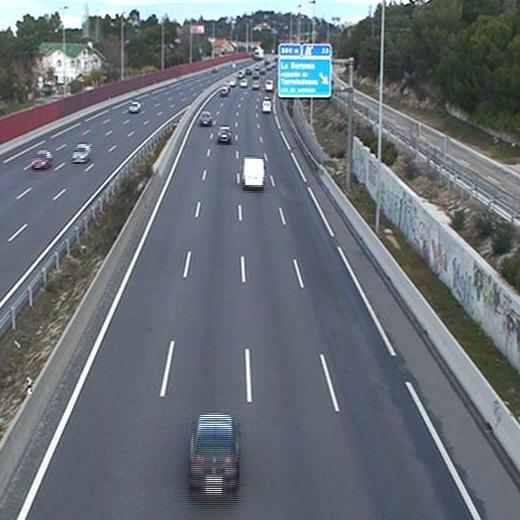car: (187, 413, 242, 487), (216, 125, 234, 143), (198, 109, 212, 124)
small-truck: (242, 156, 265, 187)
van: (262, 100, 273, 112)
